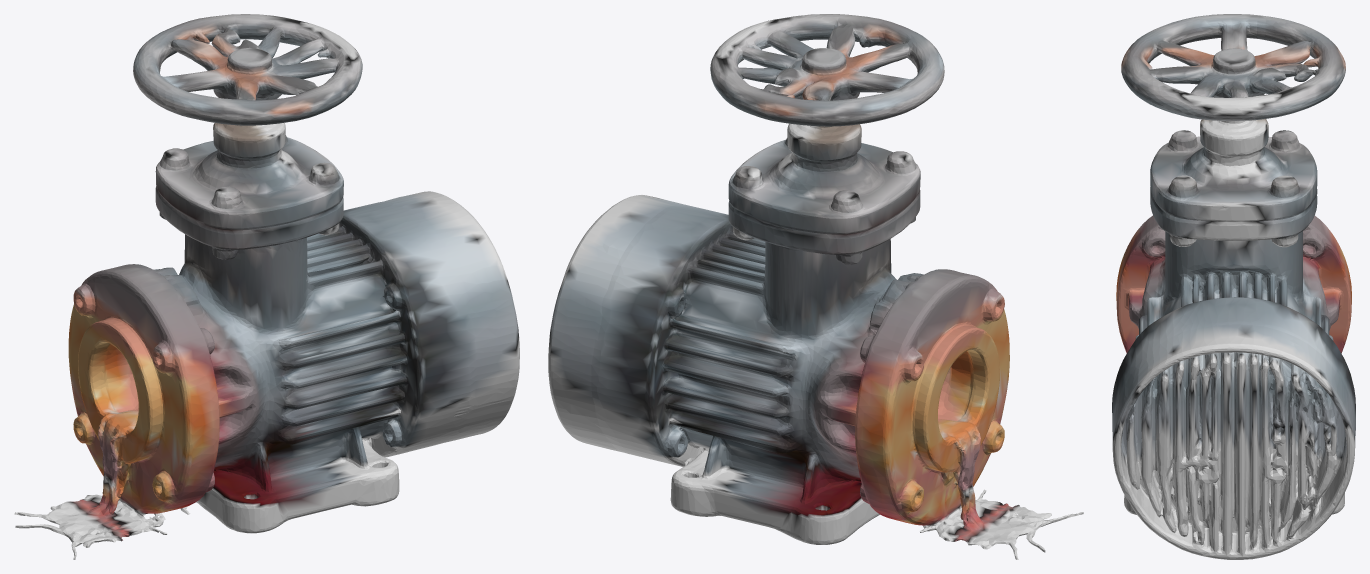
File: machine.glb
3 views of the same model, side by side, from view 1: azimuth 30°, elevation 25°; view 2: azimuth 150°, elevation 25°; view 3: azimuth 270°, elevation 25° (orthographic). The views are drawn at different scales.
Visible parts, largest first — view 1: tmpb0g77vs1.ply; view 2: tmpb0g77vs1.ply; view 3: tmpb0g77vs1.ply.
Part boxes in pixels (box(x1,y1,x2,y2)): tmpb0g77vs1.ply: box(14, 14, 519, 559); tmpb0g77vs1.ply: box(548, 14, 1083, 559); tmpb0g77vs1.ply: box(1112, 14, 1355, 559).
Size of the model in its own units: 1.99 by 1.87 by 0.9948.
